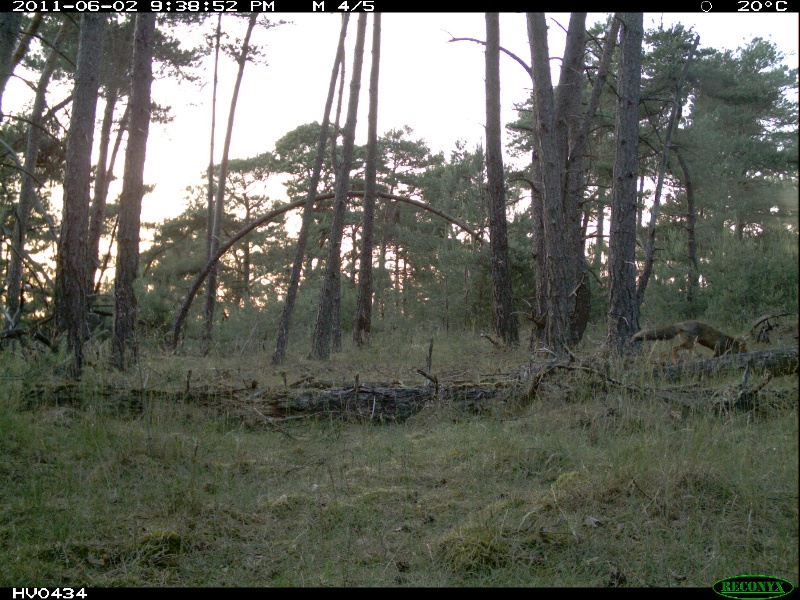fox: (630, 314, 749, 367)
